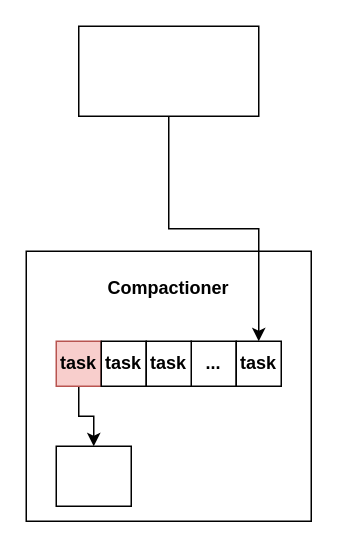
Some shapes in this 338 by 548 pixel diagram are drawn without their labels. The shapes that lost their labels are listed below. From the top down, each one's box as (x1, y1, x2, y2) in pixels, then its label:
(77, 25, 259, 116): Trigger compactio, push the task
(55, 445, 131, 506): do it
